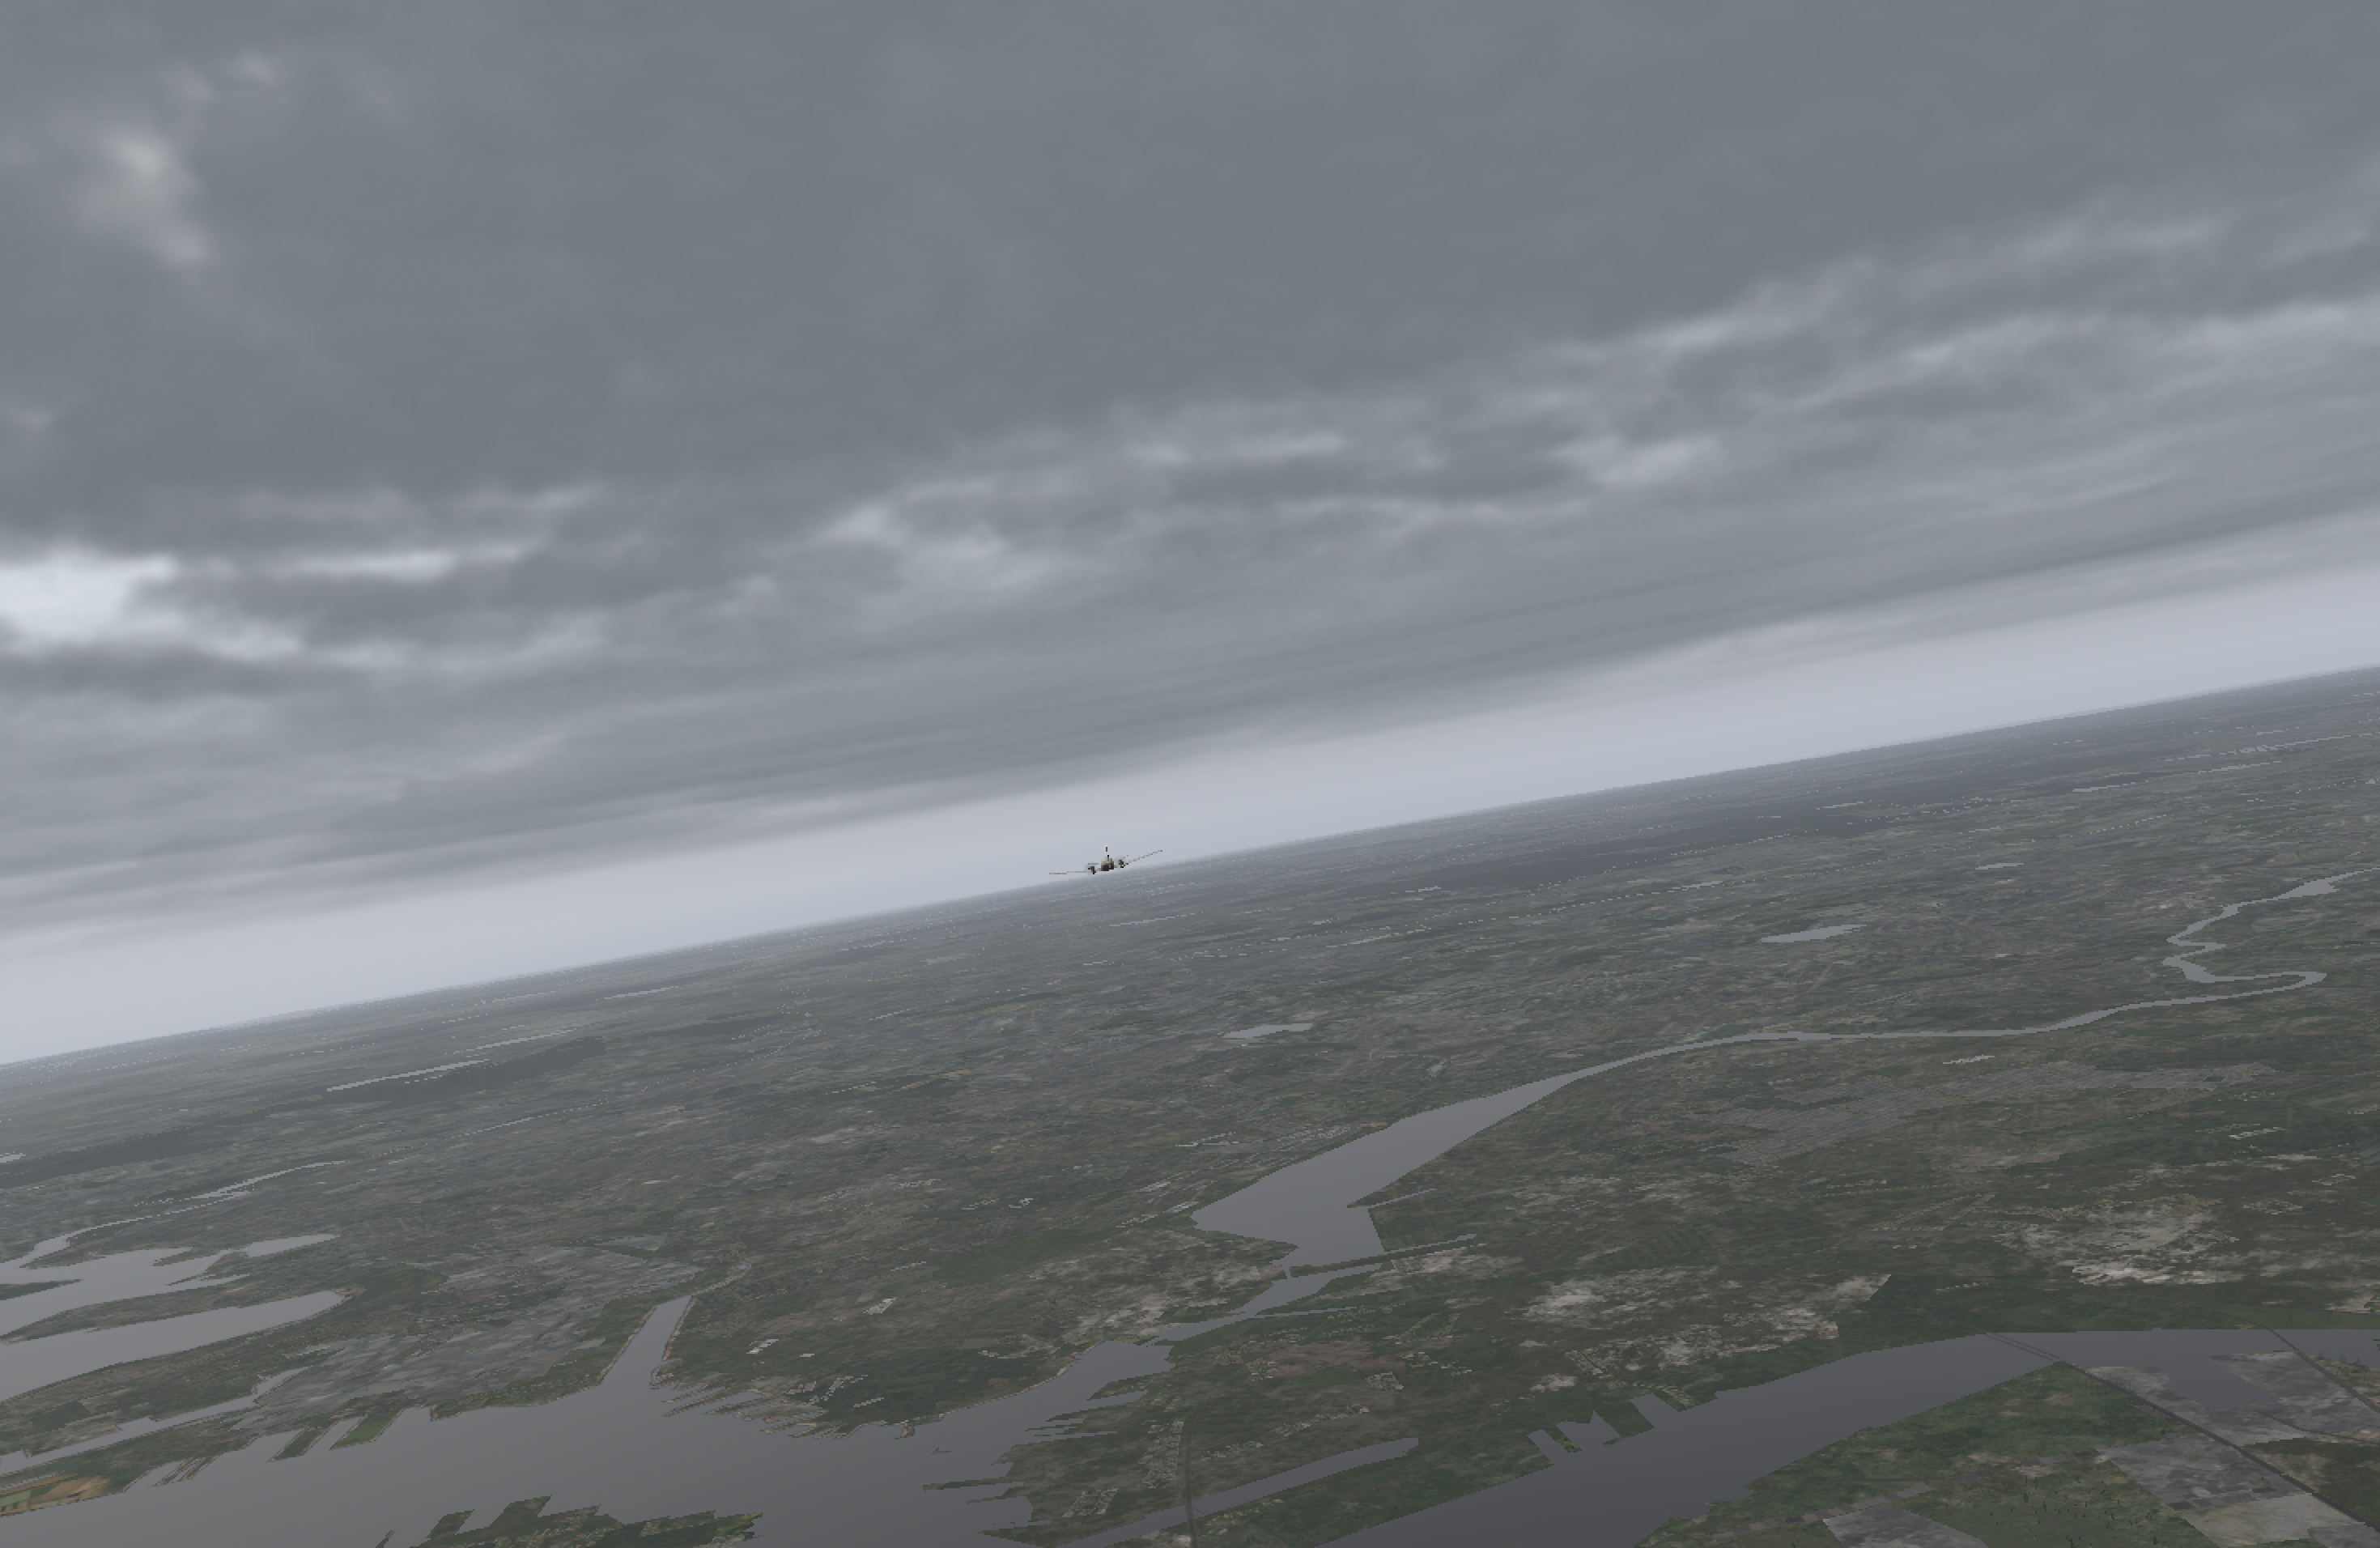aircraft: (1049, 847, 1167, 892)
